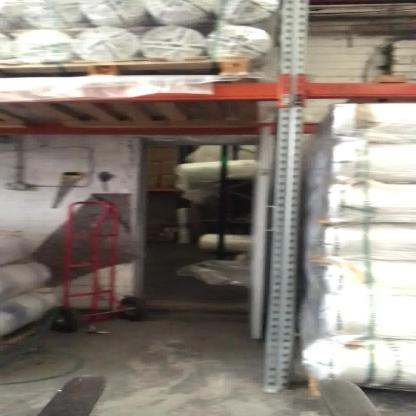vertical_damage: (262, 335, 308, 398)
